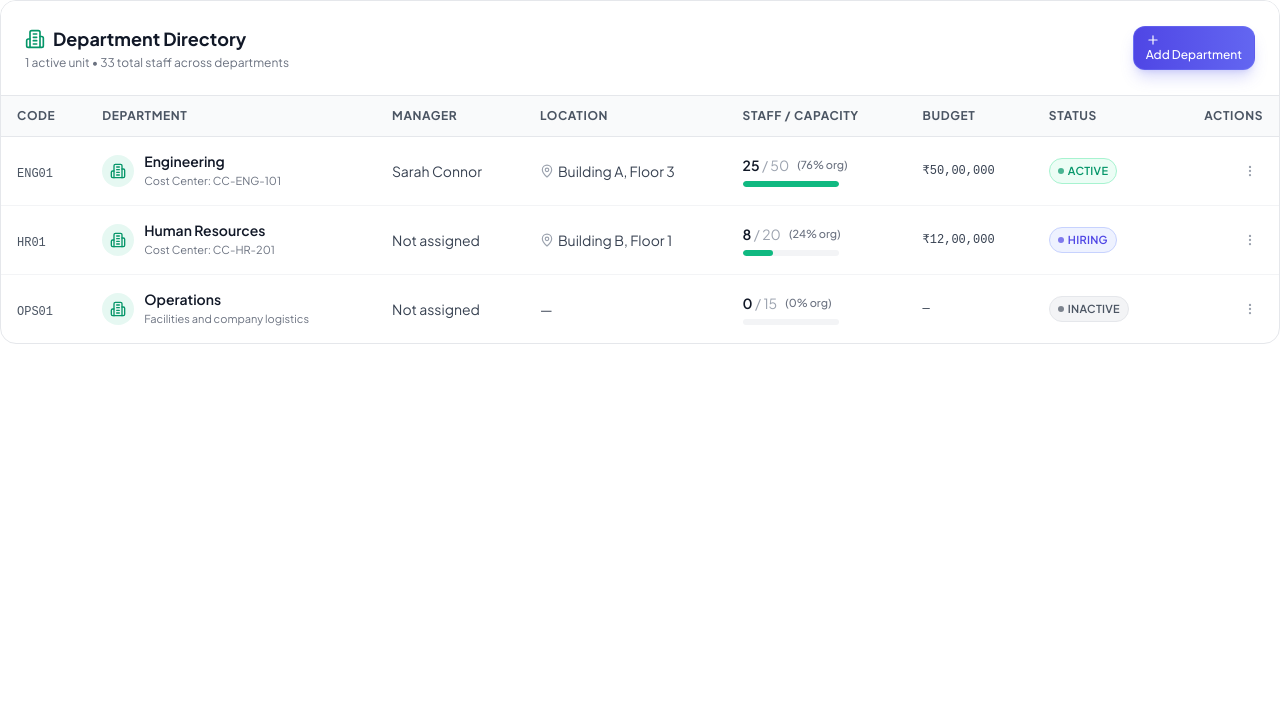
Test: Department Table UI & Three-Dot Actions Menu › clicking "View Details" opens the Department Details modal with accurate info
Open menu on first department
Click the button titled "More actions": (1250, 171) [1237, 158, 1263, 184]
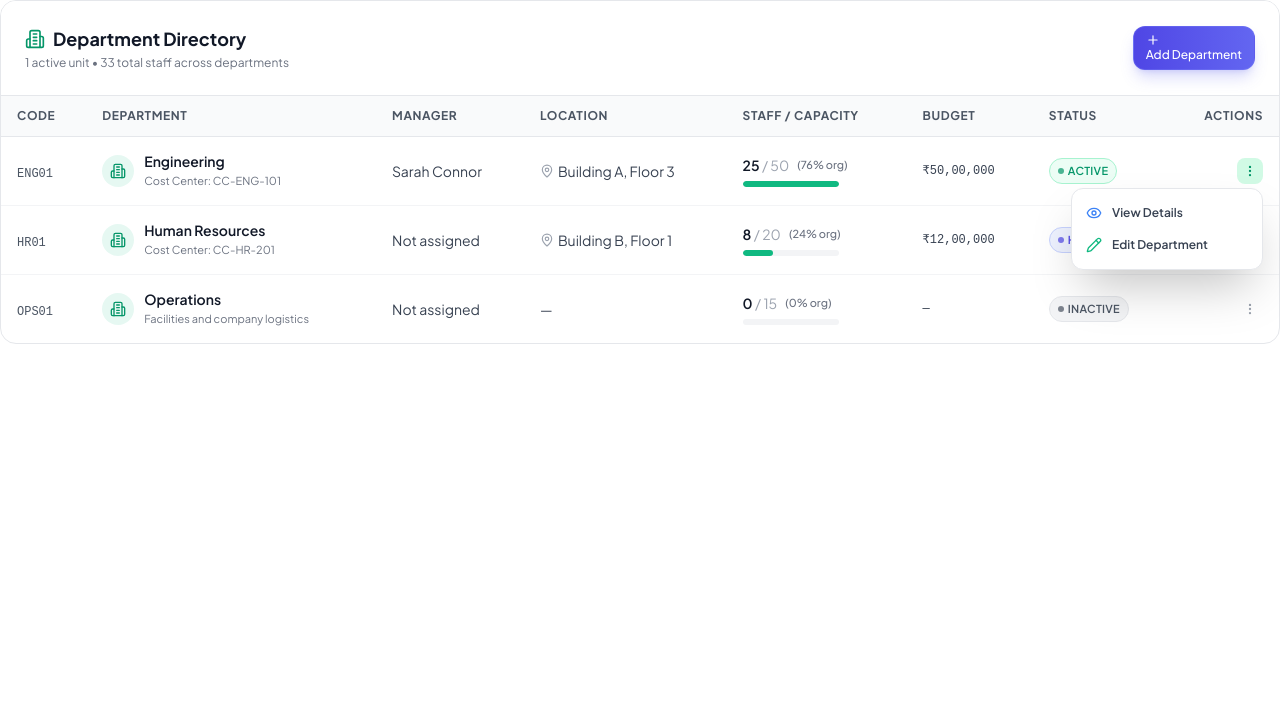
Click View Details
Click the button "View Details": (1167, 213) [1072, 197, 1262, 229]
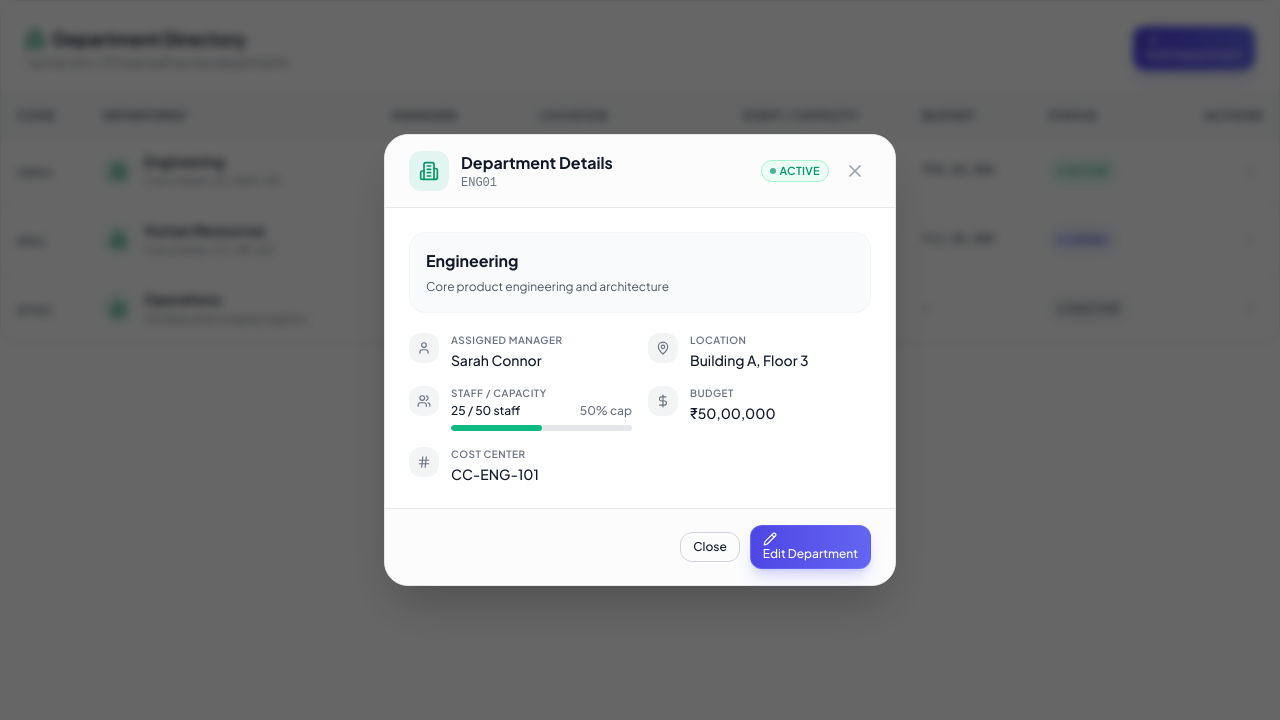
Now the heading "Department Details" is shown, box [461, 151, 613, 175]
Now the text "Core product engineering and architecture" is shown, box [426, 279, 669, 294]
Now the text "CC-ENG-101" is shown, box [451, 465, 539, 483]
